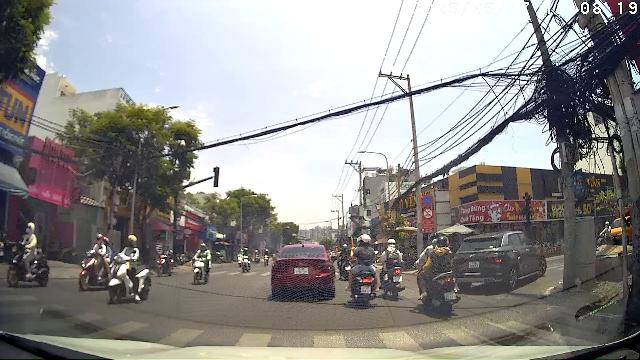131a-cam-do-xe: (422, 194, 432, 208)
